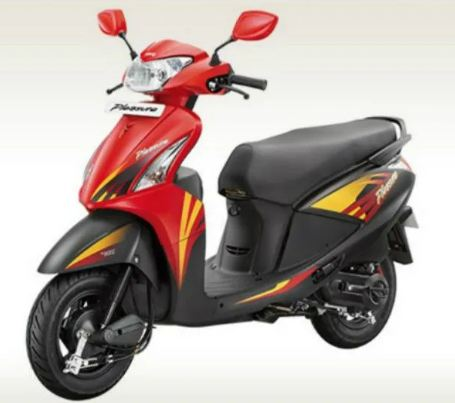bike: (22, 9, 420, 396)
